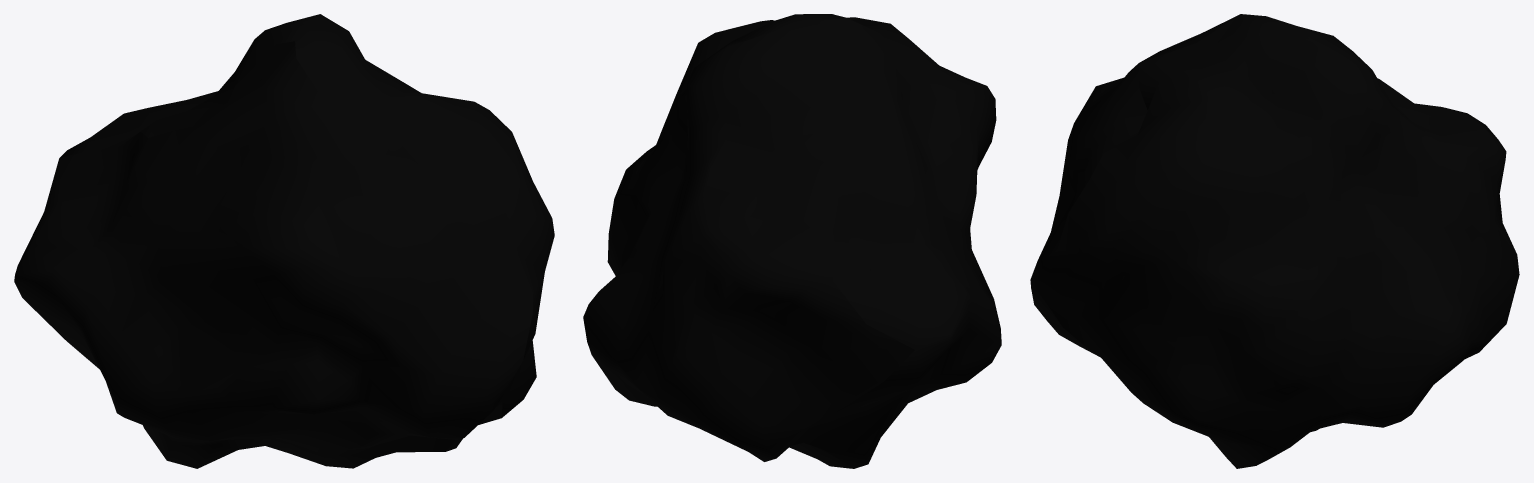
The model's file is prop_asteroid_04.glb.
The picture shows the model from 3 angles, left to right: view 1: azimuth 30°, elevation 25°; view 2: azimuth 150°, elevation 25°; view 3: azimuth 270°, elevation 25°; orthographic projection. The views are drawn at different scales.
Parts seen in each view (by area): view 1: asteroid_set_2_04; view 2: asteroid_set_2_04; view 3: asteroid_set_2_04.
Boxes of the visible parts, x1,y1,x2,y2 form: asteroid_set_2_04: [14, 14, 554, 468]; asteroid_set_2_04: [583, 14, 1001, 468]; asteroid_set_2_04: [1030, 14, 1519, 468].
Size of the model in its own units: 2.09 by 2.1 by 2.33.
1 material, 1 textured.
